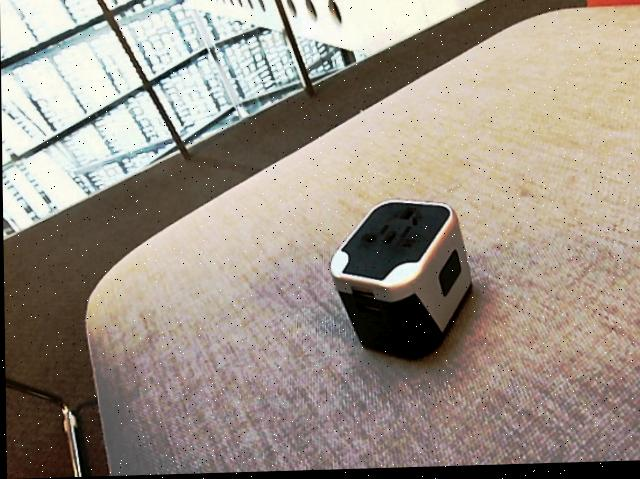adapter: (327, 199, 472, 364)
